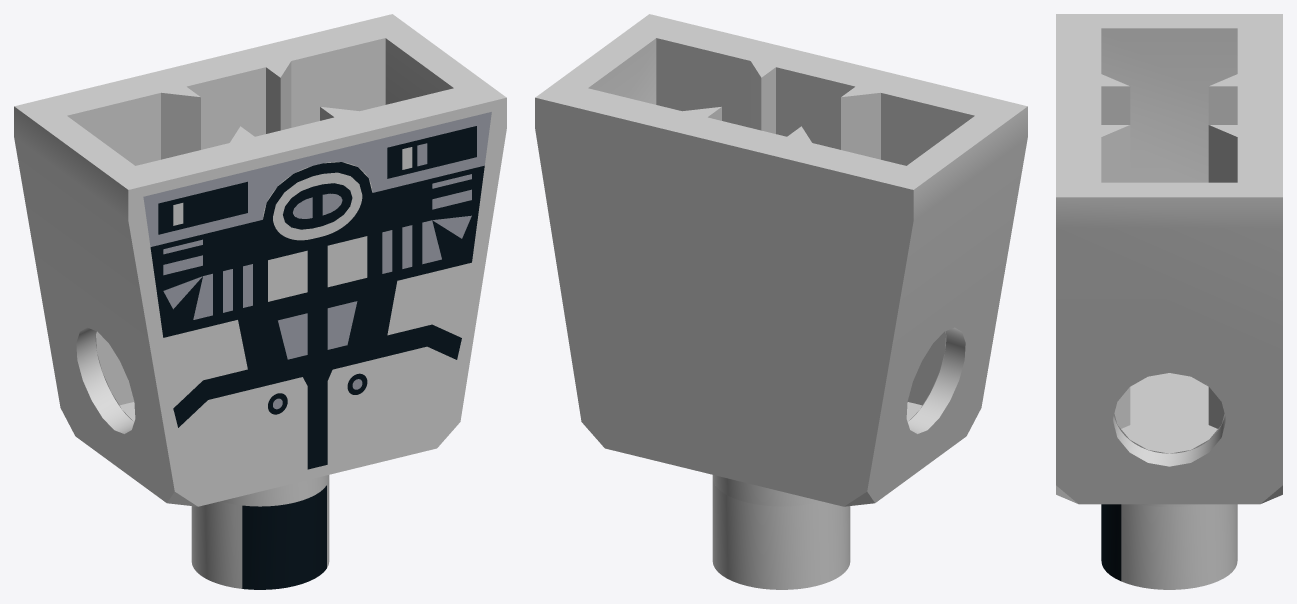
Rendered from Ann-droid Chest.dae.
3 views of the same model, side by side, from view 1: azimuth 30°, elevation 25°; view 2: azimuth 150°, elevation 25°; view 3: azimuth 270°, elevation 25° (orthographic).
Visible parts, largest first — view 1: 973p66_dot_dat; view 2: 973p66_dot_dat; view 3: 973p66_dot_dat.
Part boxes in pixels (left/top/right/bottom): 973p66_dot_dat: left=14, top=14, right=506, bottom=589; 973p66_dot_dat: left=535, top=14, right=1027, bottom=589; 973p66_dot_dat: left=1056, top=14, right=1282, bottom=589.
Size of the model in its own units: 37.75 by 43.75 by 19.75.
